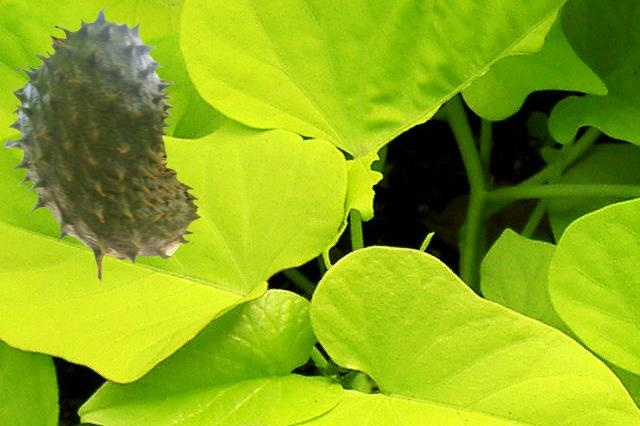guyabano: (4, 7, 200, 281)
